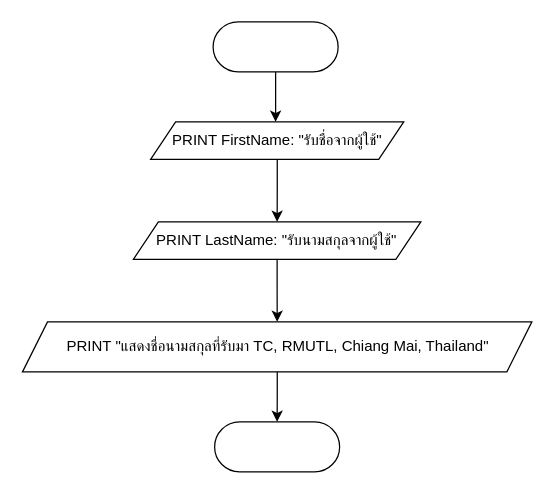
The diagram is 554 pixels wide and 494 high, and some of its shapes have lost their labels. The centre of each missing label's shape, as x and y in pixels:
"END" belongs at [276,446].
"START" belongs at [275,46].
